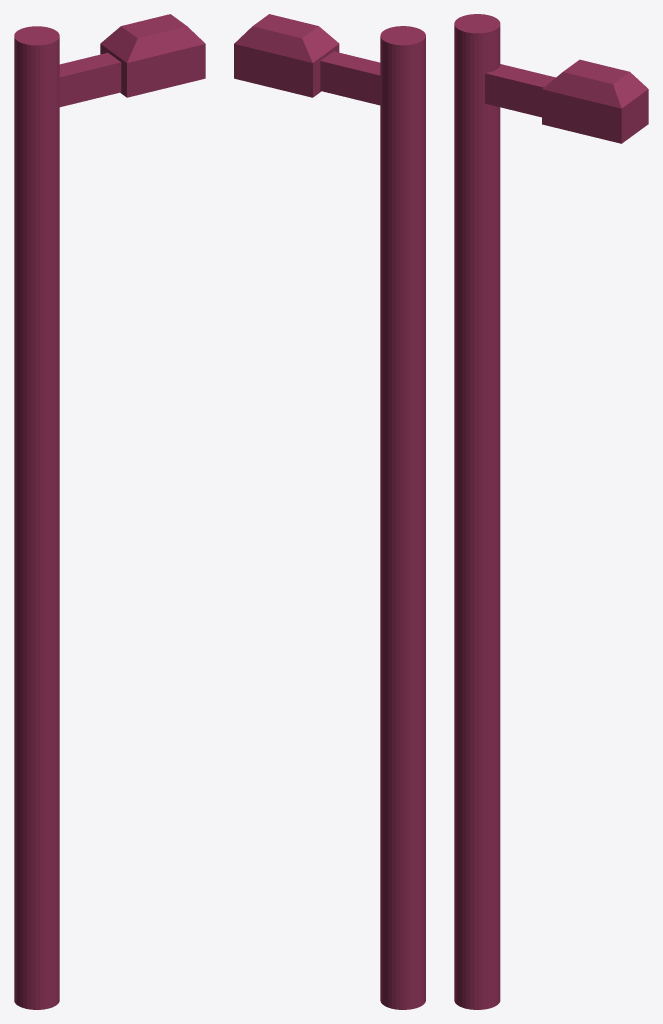
The model's file is Poste.fbx.
The picture shows the model from 3 angles, left to right: view 1: azimuth 30°, elevation 25°; view 2: azimuth 150°, elevation 25°; view 3: azimuth 330°, elevation 25°; orthographic projection.
Parts seen in each view (by area): view 1: Cube.001; view 2: Cube.001; view 3: Cube.001.
Part boxes in pixels (box(x1,y1,x2,y2)): Cube.001: box(14, 14, 205, 1009); Cube.001: box(234, 14, 425, 1009); Cube.001: box(454, 14, 648, 1009).
Bounding box in the file's own units: 267 × 1405 × 70.31.
